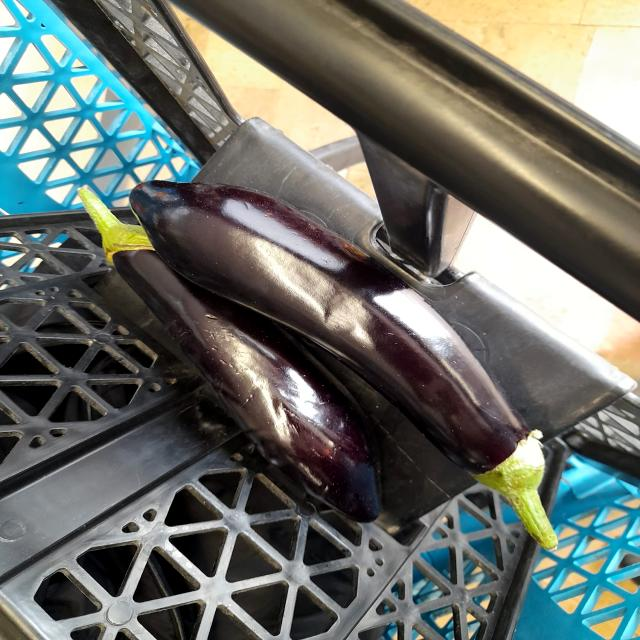eggplant: (138, 162, 563, 553), (88, 182, 390, 525)
